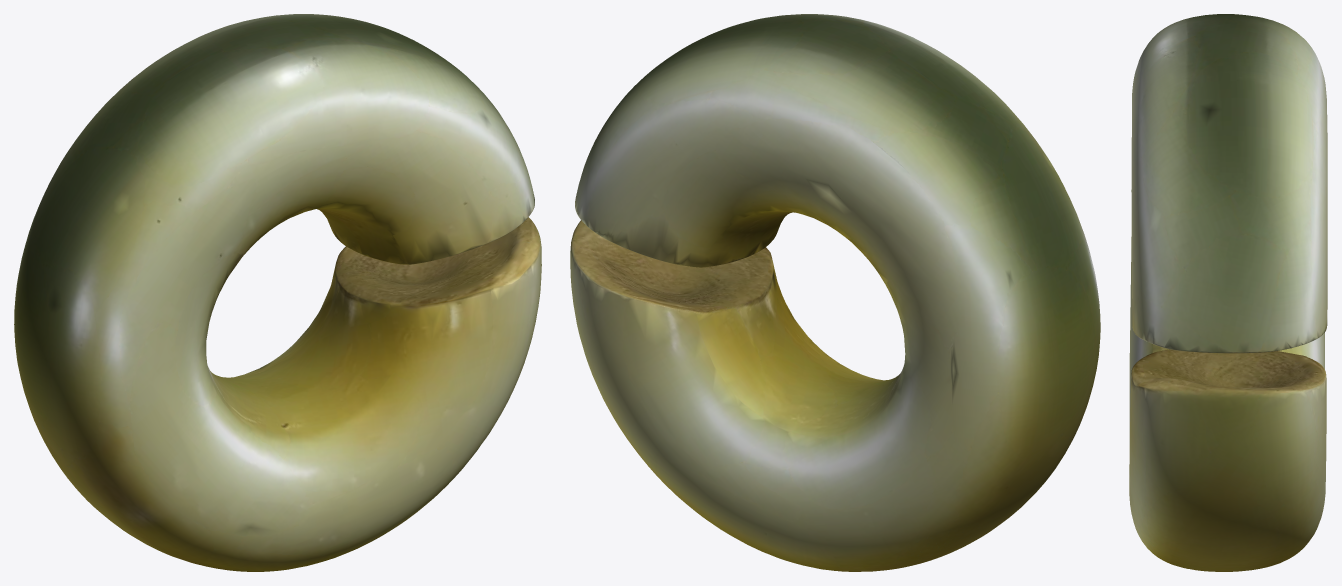
Rendered from jade-jue-roaming.glb.
3 renders of one model, left to right at view 1: azimuth 30°, elevation 25°; view 2: azimuth 150°, elevation 25°; view 3: azimuth 270°, elevation 25°, orthographic. The views are drawn at different scales.
Parts seen in each view (by area): view 1: node_0; view 2: node_0; view 3: node_0.
Boxes of the visible parts, x1,y1,x2,y2 form: node_0: (14, 14, 541, 571); node_0: (570, 14, 1100, 571); node_0: (1129, 14, 1327, 571).
Size of the model in its own units: 1.19 by 1.2 by 0.4238.
1 material, 1 textured.
